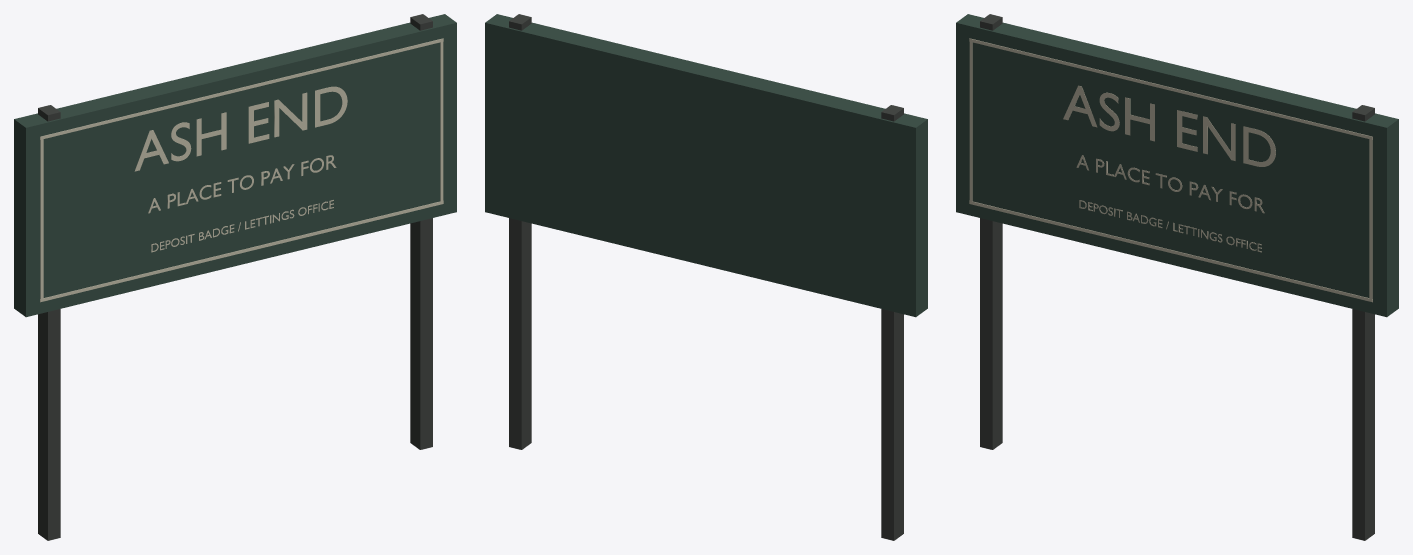
Rendered from ash-end-sign.glb.
3 views of the same model, side by side, from view 1: azimuth 30°, elevation 25°; view 2: azimuth 150°, elevation 25°; view 3: azimuth 330°, elevation 25° (orthographic).
Parts seen in each view (by area): view 1: Town sign, Town sign upright, Town sign upright.001, District name, Painted border.003, Painted border.002, District motto, Office direction, Painted border, Painted border.001; view 2: Town sign, Town sign upright, Town sign upright.001; view 3: Town sign, Town sign upright.001, Town sign upright, District name, Painted border.003, Painted border.002, District motto, Office direction, Painted border.001, Painted border.
Part boxes in pixels (bbox=[...]): Town sign: bbox=[14, 14, 456, 317]; Town sign upright: bbox=[38, 105, 60, 540]; Town sign upright.001: bbox=[410, 14, 432, 449]; District name: bbox=[134, 86, 347, 171]; Painted border.003: bbox=[40, 38, 443, 139]; Painted border.002: bbox=[40, 201, 443, 302]; District motto: bbox=[148, 155, 336, 213]; Office direction: bbox=[151, 200, 333, 252]; Painted border: bbox=[40, 137, 43, 301]; Painted border.001: bbox=[440, 42, 443, 201]; Town sign: bbox=[485, 14, 927, 317]; Town sign upright: bbox=[881, 105, 903, 540]; Town sign upright.001: bbox=[509, 14, 531, 449]; Town sign: bbox=[956, 14, 1398, 317]; Town sign upright.001: bbox=[1352, 105, 1374, 540]; Town sign upright: bbox=[980, 14, 1002, 449]; District name: bbox=[1063, 85, 1275, 166]; Painted border.003: bbox=[969, 38, 1372, 139]; Painted border.002: bbox=[969, 201, 1372, 302]; District motto: bbox=[1076, 155, 1264, 213]; Office direction: bbox=[1079, 200, 1261, 252]; Painted border.001: bbox=[1369, 137, 1372, 301]; Painted border: bbox=[969, 39, 972, 203].
Size of the model in its own units: 2.5 by 2.36 by 0.1307.
